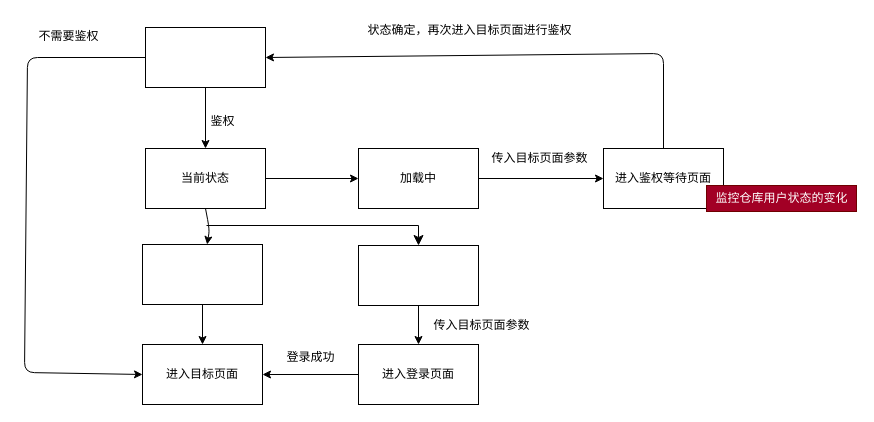
Some shapes in this 874 by 422 pixel diagram are drawn without their labels. The shapes that lost their labels are listed below. From the top down, each one's box as (x1, y1, x2, y2) in pixels, then its label:
(144, 26, 266, 88): 进入的页面需要鉴权吗？
(142, 244, 262, 304): 登录状态
(358, 244, 478, 306): 无登录状态
